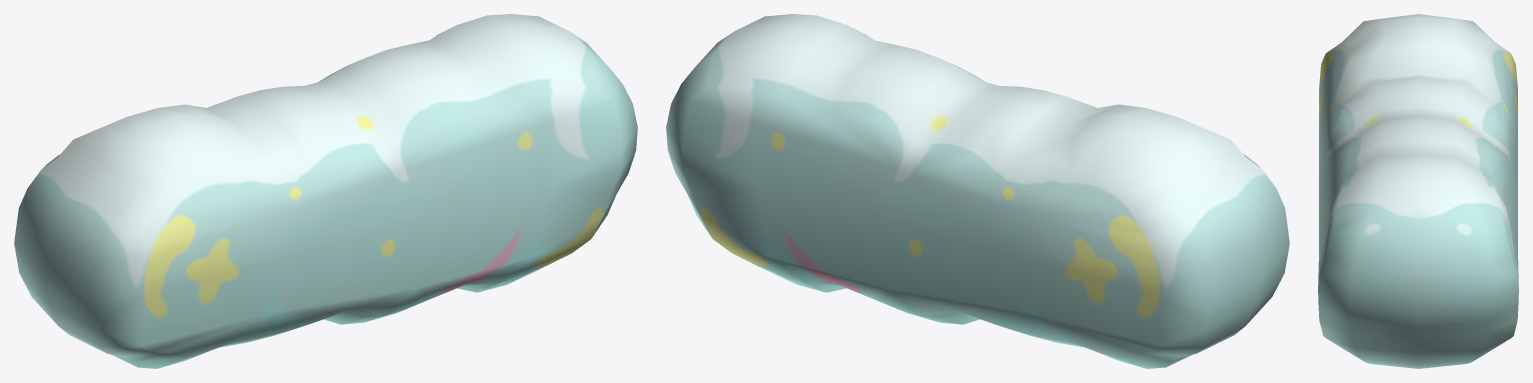
The model's file is Mesh_Adventure_Catch_Cloud_1_SM.fbx.
3 views of the same model, side by side, from view 1: azimuth 30°, elevation 25°; view 2: azimuth 150°, elevation 25°; view 3: azimuth 270°, elevation 25° (orthographic). The views are drawn at different scales.
Visible parts, largest first — view 1: Mesh_Adventure_Catch_Cloud_1; view 2: Mesh_Adventure_Catch_Cloud_1; view 3: Mesh_Adventure_Catch_Cloud_1.
Boxes of the visible parts, left/top/right/bottom form: Mesh_Adventure_Catch_Cloud_1: left=14, top=14, right=637, bottom=368; Mesh_Adventure_Catch_Cloud_1: left=666, top=14, right=1289, bottom=368; Mesh_Adventure_Catch_Cloud_1: left=1318, top=14, right=1518, bottom=368.
Bounding box in the file's own units: 101 × 41.05 × 34.81.
1 material, 1 textured.
